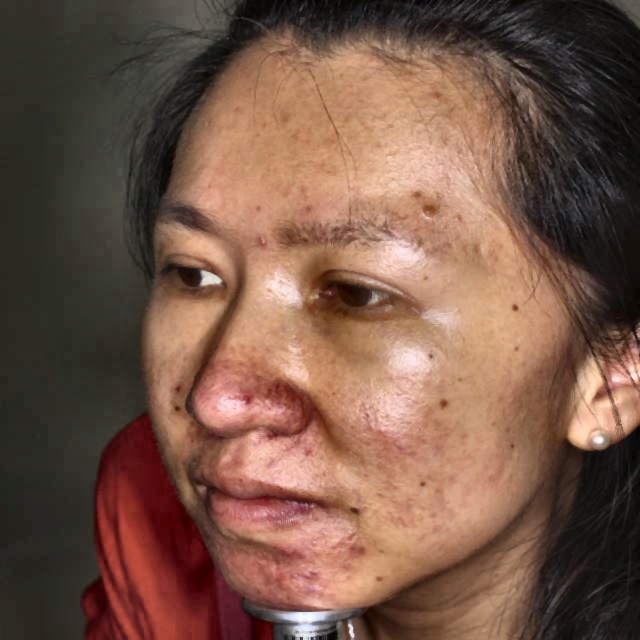pustule: (302, 581, 328, 603), (346, 533, 366, 560), (281, 542, 311, 560), (246, 234, 273, 249), (298, 566, 324, 581), (273, 577, 290, 598), (254, 567, 272, 586)
